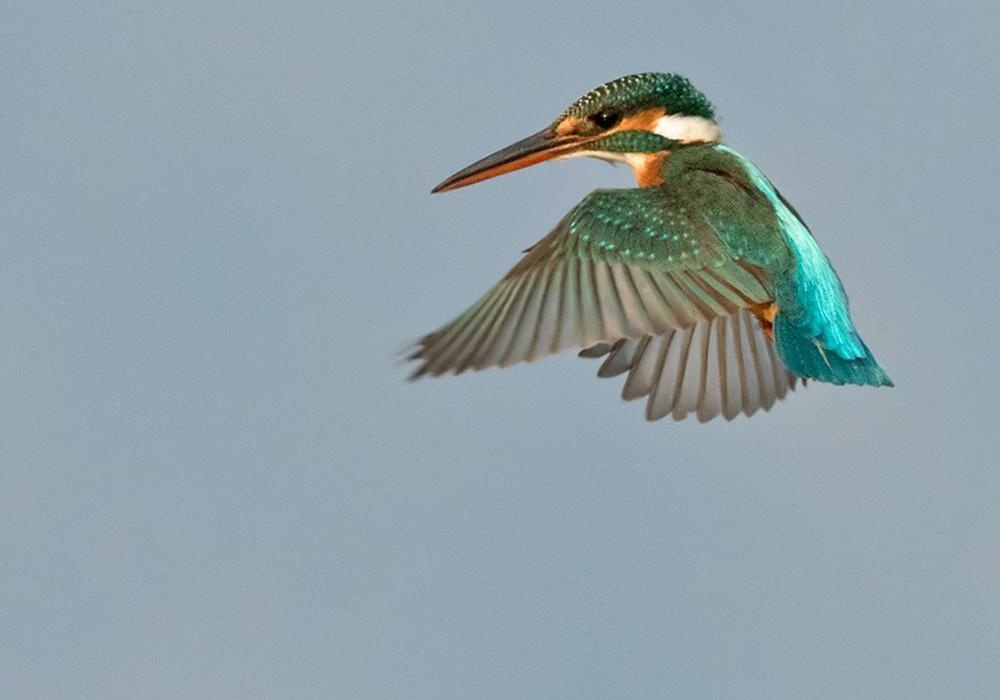kingfisher: (415, 58, 911, 452)
